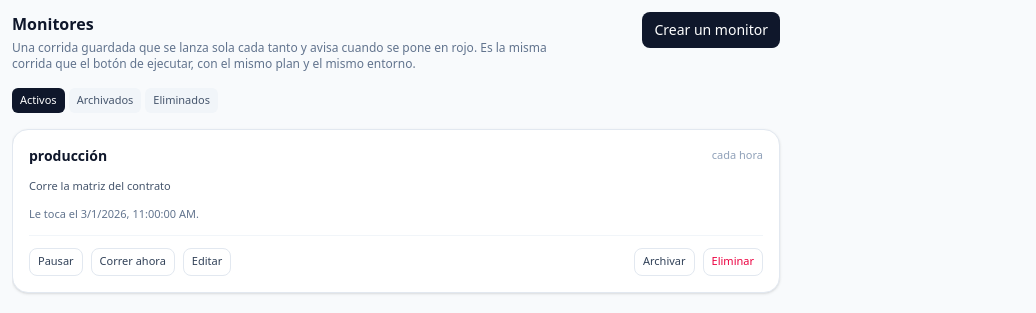
Scenario: los tres filtros de los monitores › archivar dice que deja de vigilar; desarchivar lo devuelve
Click the button "Archivar".
click(664, 262)  # box [634, 248, 695, 276]
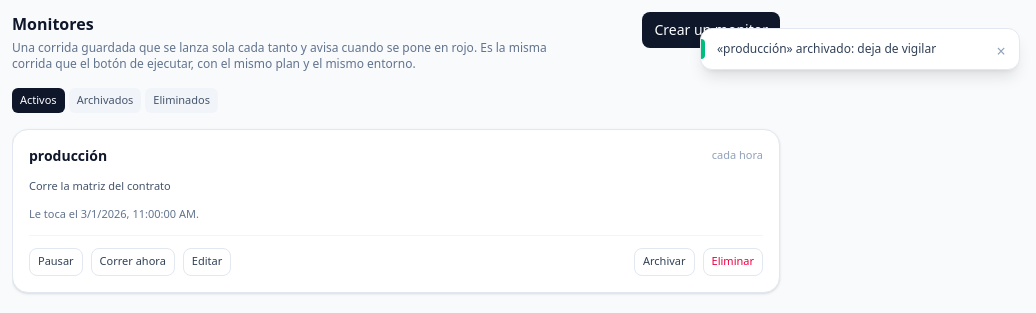
Expected: the text "«producción» archivado: deja de vigilar" is shown, [717, 40, 936, 57]
Click the tab "Archivados".
click(105, 100)  # box [69, 88, 141, 112]
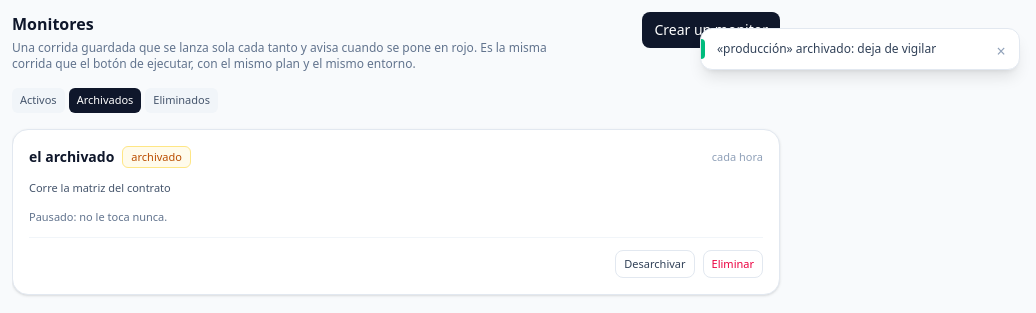
Click the button "Desarchivar".
click(655, 264)  # box [615, 250, 694, 278]
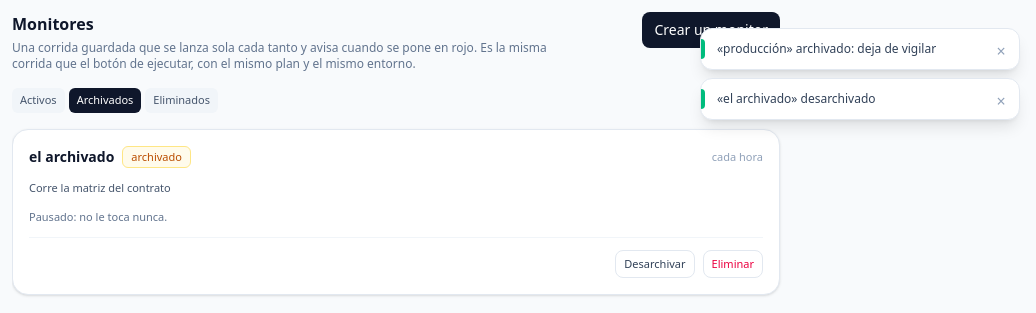
Expected: the text "«el archivado» desarchivado" is shown, [717, 90, 876, 107]
